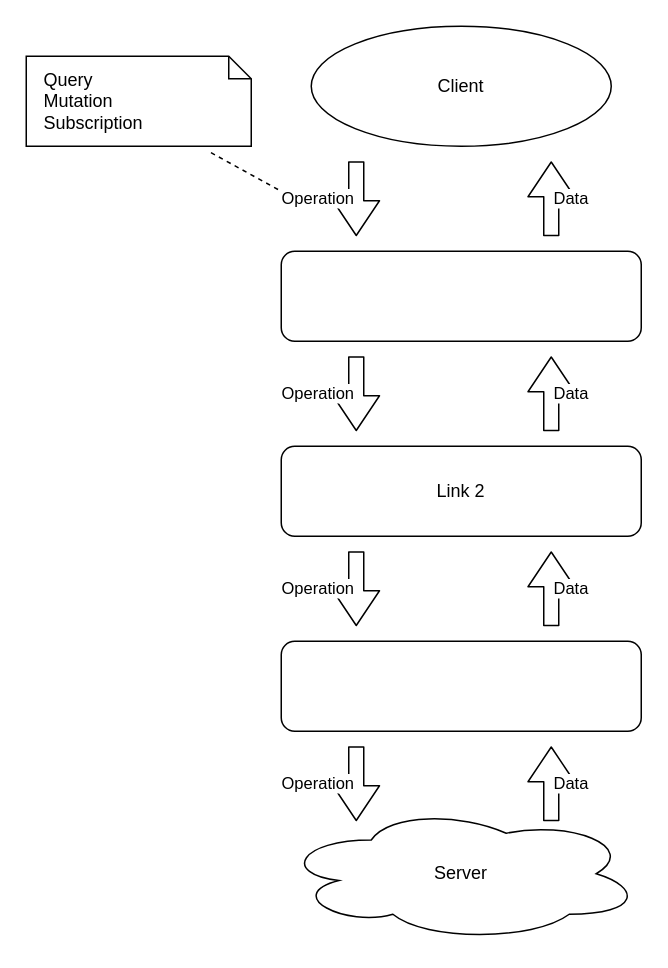
Image size: 668x968. Some labels were removed from this diagram. Here are the shapes that lost their labels. From the top down, the centre of each, then its label:
[460,295]: Link 1
[460,685]: Link 3
